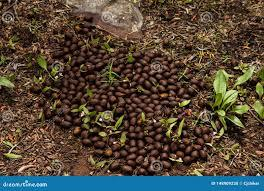Elk: (60, 46, 202, 158)
